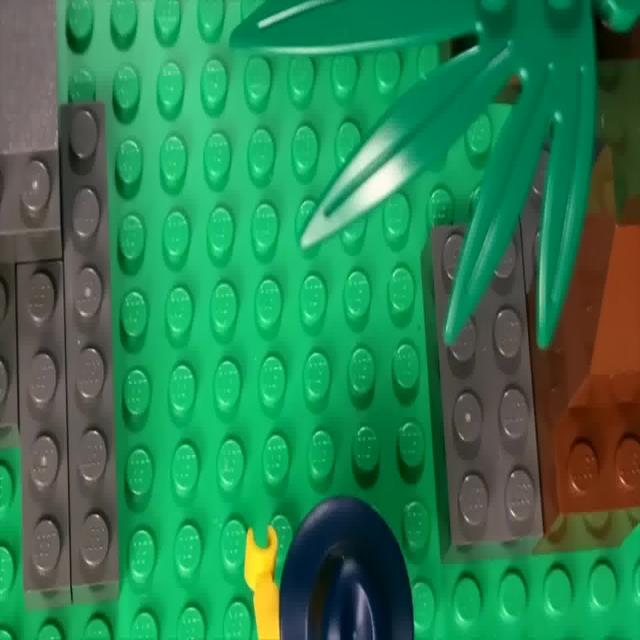4: (242, 512, 274, 640)
figure: (14, 95, 125, 593), (544, 198, 640, 553), (442, 236, 543, 533)
hand: (276, 500, 418, 640)
